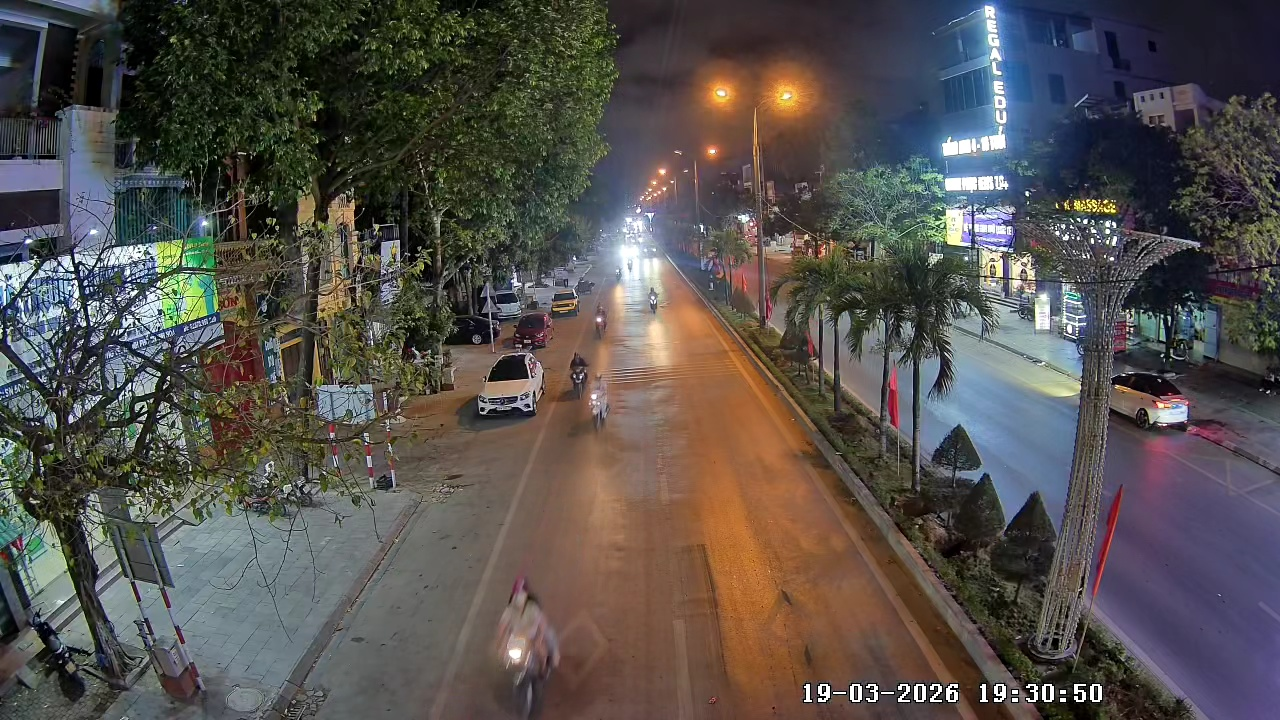car: (1107, 366, 1192, 433), (475, 350, 547, 418), (513, 310, 552, 349), (551, 282, 580, 318)
motorbike: (491, 575, 565, 719), (587, 379, 611, 432), (567, 349, 590, 398), (592, 299, 609, 338), (645, 281, 661, 314)
